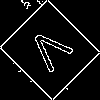V: (24, 24, 81, 80)
